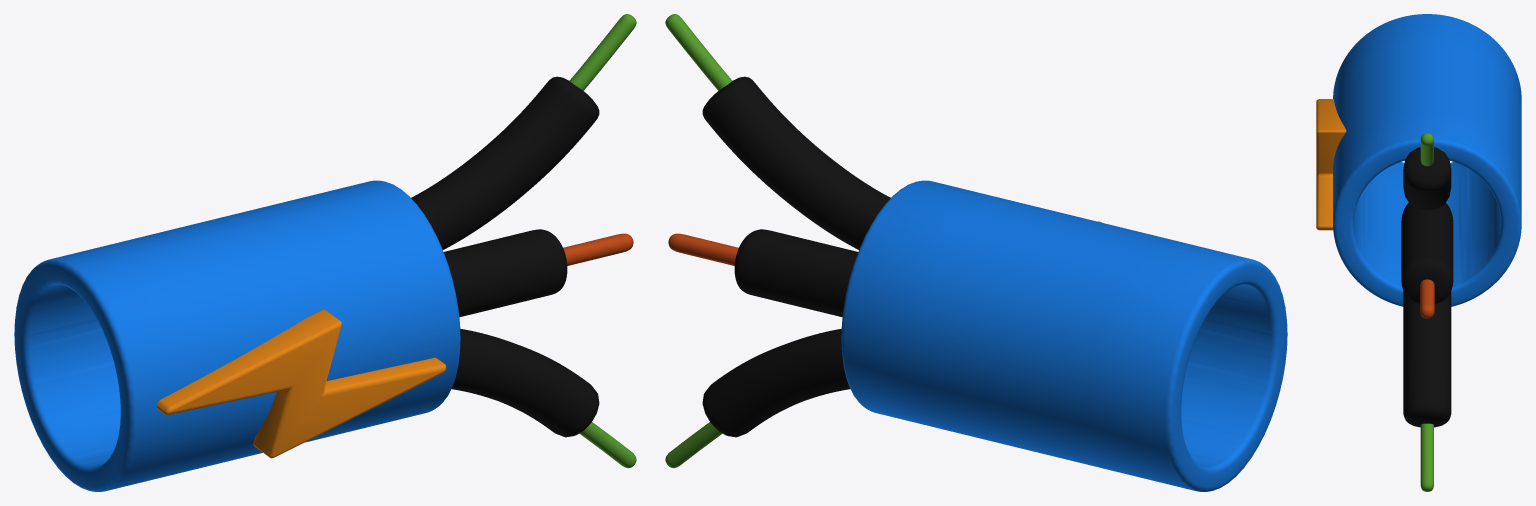
The model's file is electrical-cable.gltf.
3 views of the same model, side by side, from view 1: azimuth 30°, elevation 25°; view 2: azimuth 150°, elevation 25°; view 3: azimuth 270°, elevation 25° (orthographic). The views are drawn at different scales.
Parts seen in each view (by area): view 1: Cylinder.006, Vert.012, Plane.039, Vert.010, Vert.013, Vert.014; view 2: Cylinder.006, Vert.012, Vert.010, Vert.013, Vert.014; view 3: Cylinder.006, Vert.012, Vert.010, Plane.039, Vert.013, Vert.014.
Boxes of the visible parts, x1,y1,x2,y2 form: Cylinder.006: (14, 180, 460, 491); Vert.012: (411, 76, 599, 437); Plane.039: (156, 309, 446, 458); Vert.010: (444, 229, 567, 317); Vert.013: (569, 14, 636, 468); Vert.014: (563, 233, 633, 265); Cylinder.006: (841, 180, 1287, 491); Vert.012: (702, 76, 890, 437); Vert.010: (734, 229, 857, 317); Vert.013: (665, 14, 732, 468); Vert.014: (668, 233, 738, 265); Cylinder.006: (1333, 14, 1521, 306); Vert.012: (1403, 147, 1451, 427); Vert.010: (1401, 203, 1453, 304); Plane.039: (1316, 99, 1346, 230); Vert.013: (1420, 133, 1433, 491); Vert.014: (1420, 279, 1434, 318).
Size of the model in its own units: 1.87 by 1.43 by 0.7451.
